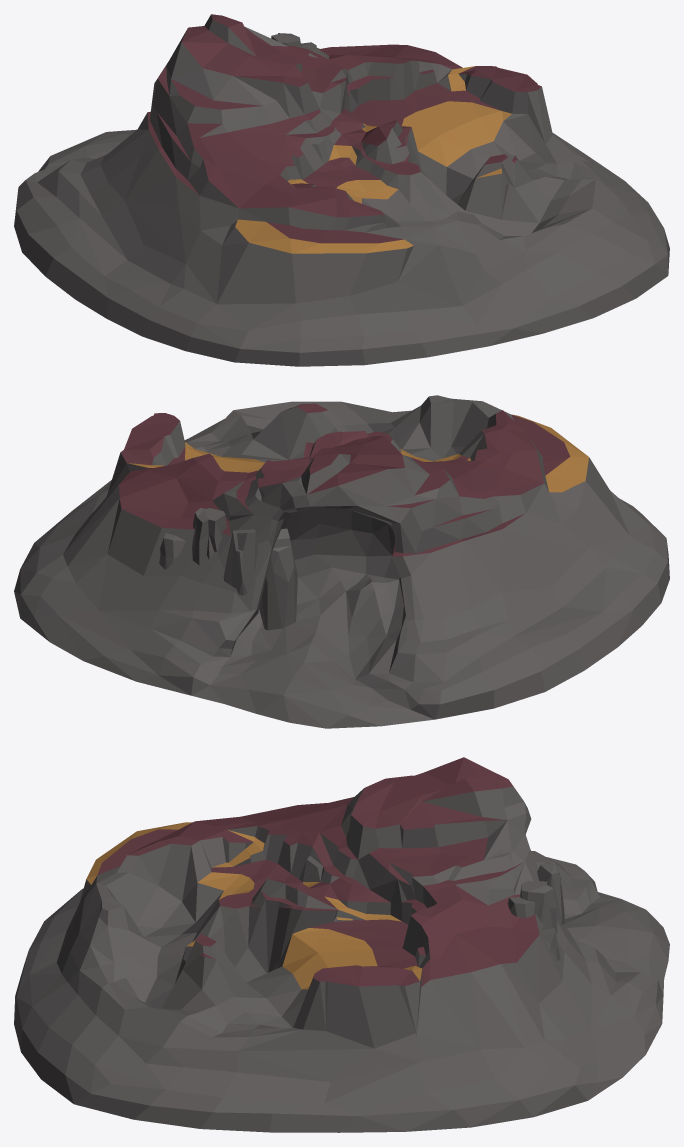
Rendered from island-cave-large.fbx.
3 renders of one model, top to bottom at view 1: azimuth 30°, elevation 25°; view 2: azimuth 150°, elevation 25°; view 3: azimuth 270°, elevation 25°, orthographic. The views are drawn at different scales.
Visible parts, largest first — view 1: island-cave-large; view 2: island-cave-large; view 3: island-cave-large.
Boxes of the visible parts, <box> form: island-cave-large: <box>14,14,669,366</box>; island-cave-large: <box>14,395,669,728</box>; island-cave-large: <box>14,757,669,1132</box>.
Size of the model in its own units: 270 by 88.01 by 273.
